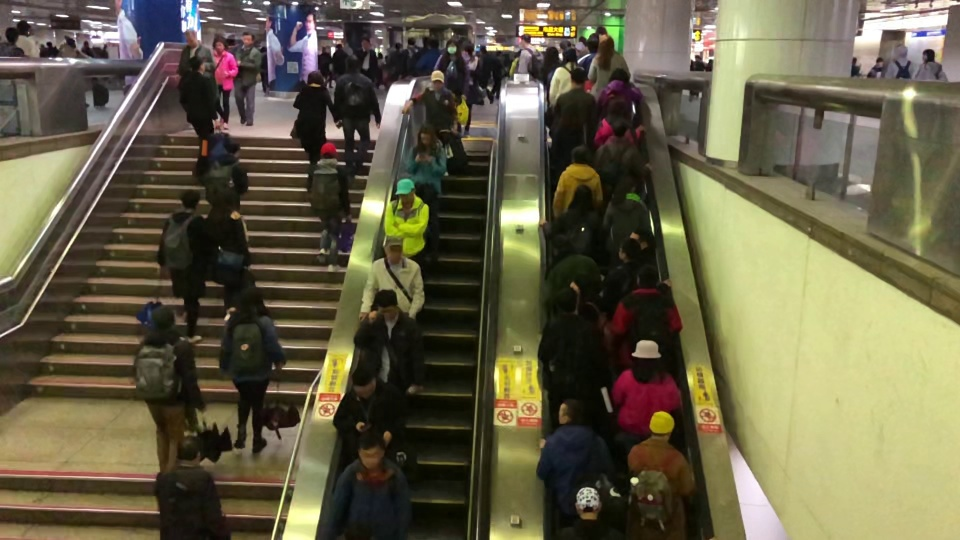person_head: (630, 340, 664, 378), (356, 426, 385, 469), (572, 486, 605, 522), (348, 364, 375, 398), (176, 435, 203, 466), (551, 286, 578, 316), (556, 398, 585, 425), (238, 285, 265, 313), (635, 263, 661, 290), (649, 410, 675, 437), (375, 288, 398, 318), (151, 305, 176, 330), (617, 237, 641, 263), (394, 177, 417, 204), (606, 97, 630, 122), (569, 184, 593, 209), (178, 188, 201, 213), (383, 236, 403, 263), (560, 107, 582, 129), (215, 189, 236, 212), (570, 143, 591, 165), (416, 122, 435, 146), (597, 34, 616, 54), (611, 117, 629, 138), (607, 67, 629, 83), (223, 138, 241, 157), (319, 141, 338, 159), (552, 236, 572, 253), (305, 69, 323, 86), (211, 35, 229, 51), (619, 176, 637, 192), (570, 68, 585, 87), (344, 53, 359, 71), (545, 45, 559, 64), (431, 69, 445, 88), (189, 56, 205, 72), (562, 48, 578, 63), (895, 44, 910, 60), (184, 28, 197, 46), (4, 27, 18, 43), (585, 37, 599, 53), (17, 20, 30, 37), (922, 47, 936, 62), (446, 39, 459, 53), (241, 30, 253, 44), (360, 38, 372, 51), (461, 41, 473, 54), (519, 33, 531, 46), (639, 236, 650, 250), (65, 37, 76, 48), (559, 39, 570, 50), (575, 42, 585, 54), (428, 37, 438, 47), (406, 37, 417, 46), (874, 57, 883, 67), (421, 35, 428, 47), (850, 55, 858, 65), (227, 36, 235, 45), (260, 45, 268, 53), (479, 46, 486, 54), (513, 49, 520, 56), (495, 50, 502, 56), (694, 53, 699, 61), (320, 46, 326, 52), (337, 42, 341, 50), (395, 43, 400, 49), (83, 41, 88, 46)
person_vbox: (131, 304, 205, 479), (608, 339, 683, 503), (218, 283, 287, 456), (585, 261, 684, 373), (623, 409, 699, 540), (535, 397, 617, 517), (536, 284, 606, 423), (328, 425, 411, 540), (155, 187, 209, 345), (351, 288, 426, 401), (153, 434, 224, 540), (329, 363, 407, 449), (404, 122, 448, 264), (401, 69, 458, 178), (205, 188, 251, 322), (358, 235, 426, 323), (307, 141, 352, 273), (333, 54, 381, 175), (540, 235, 605, 313), (539, 183, 605, 257), (604, 236, 674, 305), (291, 69, 341, 165), (382, 178, 430, 278), (177, 56, 227, 141), (596, 117, 654, 190), (551, 143, 603, 219), (603, 174, 652, 250), (203, 137, 250, 210), (434, 40, 470, 134), (561, 484, 618, 538), (586, 34, 632, 97), (209, 35, 239, 131), (233, 29, 262, 128), (593, 96, 648, 148), (552, 68, 597, 131), (596, 67, 642, 120), (174, 26, 215, 85), (549, 105, 585, 171), (549, 47, 584, 108), (462, 41, 482, 138), (912, 47, 949, 82), (518, 32, 545, 78), (543, 45, 562, 100), (355, 39, 379, 81), (478, 45, 494, 105), (887, 44, 914, 79), (415, 36, 441, 72), (577, 36, 600, 73), (16, 18, 37, 57), (689, 53, 705, 101), (492, 47, 505, 102), (0, 27, 23, 56), (318, 47, 332, 87), (59, 40, 85, 61), (332, 44, 349, 75), (866, 56, 886, 78), (260, 45, 268, 93), (508, 48, 519, 77), (402, 40, 418, 58), (851, 55, 859, 77)
